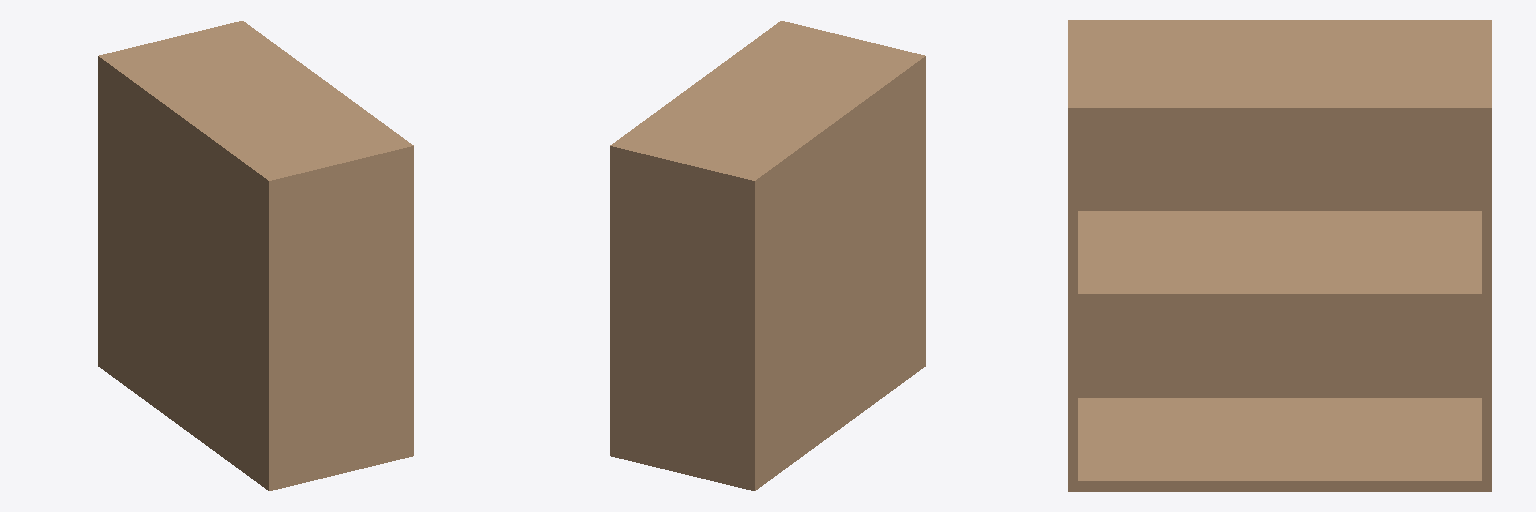
URDF robot description (plane):
<?xml version="0.0" ?>
<robot name="plane">

  <link name="shelve_bottom">
    <contact>
        <lateral_friction value="1"/>
    </contact>
    
    <inertial>
      <origin rpy="0 0 0" xyz="0 0 0"/>
      <mass value=".0"/>
      <inertia ixx="0" ixy="0" ixz="0" iyy="0" iyz="0" izz="0"/>
    </inertial>
      
    <visual>
      <origin rpy="0 0 0" xyz="0 0 0"/>
      <geometry>
        <box size="0.392 0.803 0.022"/>
      </geometry>
      <material name="table_gray"/>
    </visual>
    
    <collision>
      <origin rpy="0 0 0" xyz="0 0 0"/>
      <geometry>
        <box size="0.392 0.803 0.022"/>
      </geometry>
    </collision>
      
  </link>

  <link name="shelve_left">
    <contact>
        <lateral_friction value="1"/>
    </contact>
    
    <inertial>
      <origin rpy="0 0 0" xyz="0 0 0"/>
      <mass value=".0"/>
      <inertia ixx="0" ixy="0" ixz="0" iyy="0" iyz="0" izz="0"/>
    </inertial>
      
    <visual>
      <origin rpy="0 0 0" xyz="0 0.3925 0.3905"/>
      <geometry>
        <box size="0.392 0.018 0.759"/>
      </geometry>
      <material name="table_gray"/>
    </visual>
    
    <collision>
      <origin rpy="0 0 0" xyz="0 0.3925 0.3905"/>
      <geometry>
        <box size="0.392 0.018 0.759"/>
      </geometry>
    </collision>
      
  </link>

  <link name="shelve_right">
    <contact>
        <lateral_friction value="1"/>
    </contact>
    
    <inertial>
      <origin rpy="0 0 0" xyz="0 0 0"/>
      <mass value=".0"/>
      <inertia ixx="0" ixy="0" ixz="0" iyy="0" iyz="0" izz="0"/>
    </inertial>
      
    <visual>
      <origin rpy="0 0 0" xyz="0 -0.3925 0.3905"/>
      <geometry>
        <box size="0.392 0.018 0.759"/>
      </geometry>
      <material name="table_gray"/>
    </visual>
    
    <collision>
      <origin rpy="0 0 0" xyz="0 -0.3925 0.3905"/>
      <geometry>
        <box size="0.392 0.018 0.759"/>
      </geometry>
    </collision>
      
  </link>

  <link name="shelve_upper">
    <contact>
        <lateral_friction value="1"/>
    </contact>
    
    <inertial>
      <origin rpy="0 0 0" xyz="0 0 0"/>
      <mass value=".0"/>
      <inertia ixx="0" ixy="0" ixz="0" iyy="0" iyz="0" izz="0"/>
    </inertial>
      
    <visual>
      <origin rpy="0 0 0" xyz="0 0 0.781"/>
      <geometry>
        <box size="0.392 0.803 0.022"/>
      </geometry>
      <material name="table_gray"/>
    </visual>
    
    <collision>
      <origin rpy="0 0 0" xyz="0 0 0.781"/>
      <geometry>
        <box size="0.392 0.803 0.022"/>
      </geometry>
    </collision>
      
  </link>

  <link name="shelve_middle">
    <contact>
        <lateral_friction value="1"/>
    </contact>
    
    <inertial>
      <origin rpy="0 0 0" xyz="0 0 0"/>
      <mass value=".0"/>
      <inertia ixx="0" ixy="0" ixz="0" iyy="0" iyz="0" izz="0"/>
    </inertial>
      
    <visual>
      <origin rpy="0 0 0" xyz="0.009 0 0.3905"/>
      <geometry>
        <box size="0.374 0.767 0.022"/>
      </geometry>
      <material name="table_gray"/>
    </visual>
    
    <collision>
      <origin rpy="0 0 0" xyz="0.009 0 0.3905"/>
      <geometry>
        <box size="0.374 0.767 0.022"/>
      </geometry>
    </collision>
      
  </link>

  <link name="shelve_back">
    <contact>
        <lateral_friction value="1"/>
    </contact>
    
    <inertial>
      <origin rpy="0 0 0" xyz="0 0 0"/>
      <mass value=".0"/>
      <inertia ixx="0" ixy="0" ixz="0" iyy="0" iyz="0" izz="0"/>
    </inertial>
      
    <visual>
      <origin rpy="0 0 0" xyz="-0.187 0 0.3905"/>
      <geometry>
        <box size="0.018 0.767 0.759"/>
      </geometry>
      <material name="table_gray"/>
    </visual>
    
    <collision>
      <origin rpy="0 0 0" xyz="-0.187 0 0.3905"/>
      <geometry>
        <box size="0.018 0.767 0.759"/>
      </geometry>
    </collision>
       -->
  </link>

  <joint name="fixed_joint1" type="fixed">
    <parent link="shelve_bottom"/>
    <child link="shelve_left"/>
    <origin rpy="0 0 0.0" xyz="0 0 0.0"/>
  </joint>

  <joint name="fixed_joint2" type="fixed">
    <parent link="shelve_bottom"/>
    <child link="shelve_right"/>
    <origin rpy="0 0 0.0" xyz="0 0 0.0"/>
  </joint>

  <joint name="fixed_joint3" type="fixed">
    <parent link="shelve_bottom"/>
    <child link="shelve_upper"/>
    <origin rpy="0 0 0.0" xyz="0 0 0.0"/>
  </joint>

  <joint name="fixed_joint4" type="fixed">
    <parent link="shelve_bottom"/>
    <child link="shelve_middle"/>
    <origin rpy="0 0 0.0" xyz="0 0 0.0"/>
  </joint>

  <joint name="fixed_joint5" type="fixed">
    <parent link="shelve_bottom"/>
    <child link="shelve_back"/>
    <origin rpy="0 0 0.0" xyz="0 0 0.0"/>
  </joint>

  <material name="table_gray">
    <color rgba=".7686 .6431 .5176 1."/>
  </material>

</robot>

--- Render facts (derived) ---
Views: 3 orthographic renders of the robot side by side, from view 1: azimuth 30°, elevation 25°; view 2: azimuth 150°, elevation 25°; view 3: azimuth 270°, elevation 25°.
Model plane with 6 links and 5 joints (5 fixed), rooted at shelve_bottom, posed every joint at zero.
Links seen in each view (by area): view 1: shelve_back, shelve_right, shelve_upper, shelve_bottom, shelve_left; view 2: shelve_back, shelve_left, shelve_upper, shelve_bottom, shelve_right; view 3: shelve_back, shelve_upper, shelve_bottom, shelve_middle, shelve_left, shelve_right.
Boxes of the visible links, <box> form: shelve_back: <box>102,68,264,479</box>; shelve_right: <box>265,154,413,482</box>; shelve_upper: <box>98,21,413,189</box>; shelve_bottom: <box>98,358,413,490</box>; shelve_left: <box>98,65,101,359</box>; shelve_back: <box>759,68,921,479</box>; shelve_left: <box>610,154,758,482</box>; shelve_upper: <box>610,21,925,189</box>; shelve_bottom: <box>610,358,925,490</box>; shelve_right: <box>922,65,925,359</box>; shelve_back: <box>1078,118,1481,397</box>; shelve_upper: <box>1068,20,1491,117</box>; shelve_bottom: <box>1068,398,1491,491</box>; shelve_middle: <box>1078,211,1481,304</box>; shelve_left: <box>1482,118,1491,480</box>; shelve_right: <box>1068,118,1077,480</box>.
Size in the robot's own frame: 0.392 by 0.803 by 0.803 metres.
Geometry: primitives only (box / cylinder / sphere), no mesh files.